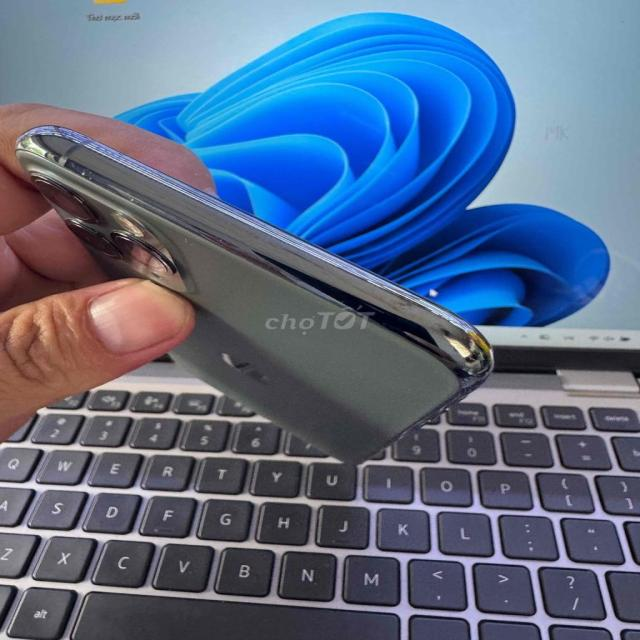gen_11: (12, 127, 491, 478)
